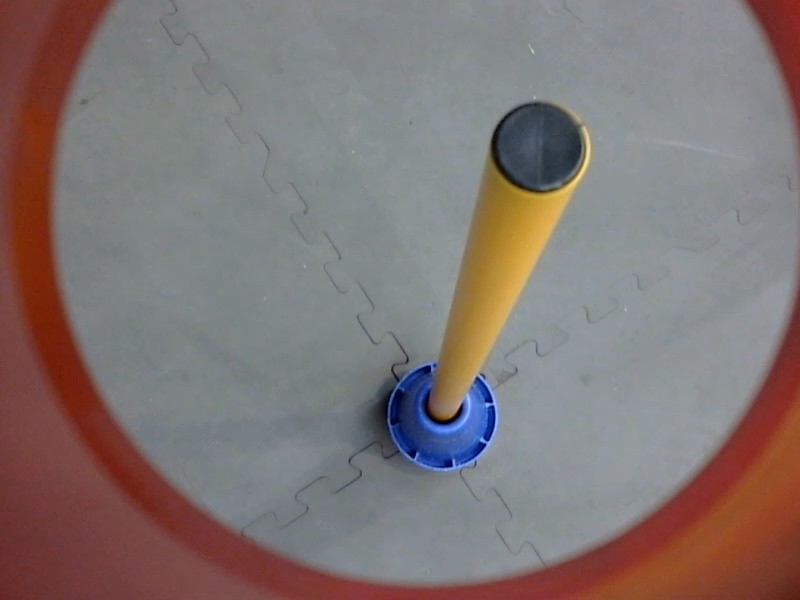tip: (486, 89, 598, 205)
